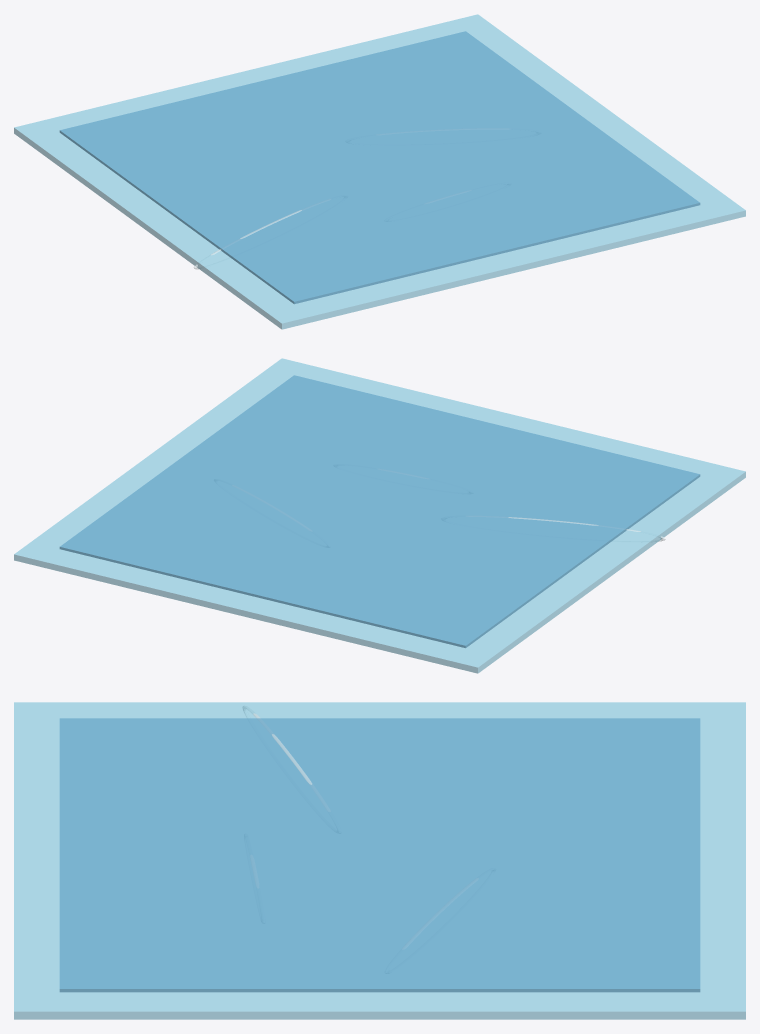
File: water_tile_2x2_v1.glb
3 views of the same model, one above another, from view 1: azimuth 30°, elevation 25°; view 2: azimuth 150°, elevation 25°; view 3: azimuth 270°, elevation 25° (orthographic). The views are drawn at different scales.
Visible parts, largest first — view 1: water_tile_surface, water_tile_center_depth; view 2: water_tile_surface, water_tile_center_depth; view 3: water_tile_surface, water_tile_center_depth.
Boxes of the visible parts, left/top/right/bottom form: water_tile_surface: left=14, top=14, right=745, bottom=329; water_tile_center_depth: left=59, top=31, right=700, bottom=303; water_tile_surface: left=14, top=358, right=745, bottom=673; water_tile_center_depth: left=59, top=375, right=700, bottom=647; water_tile_surface: left=14, top=702, right=745, bottom=1019; water_tile_center_depth: left=59, top=718, right=700, bottom=992.
Size of the model in its own units: 2.02 by 0.0688 by 2.
